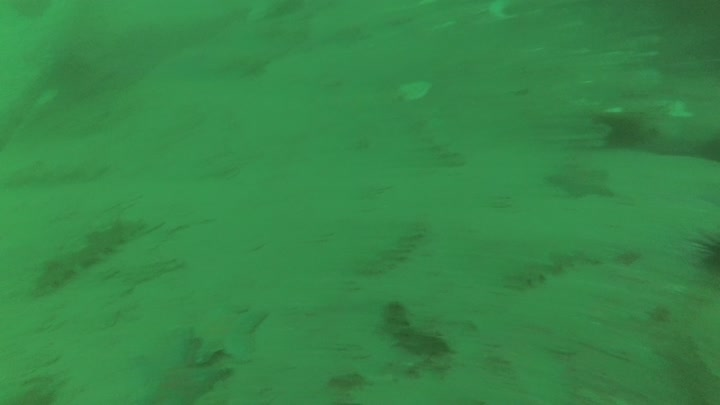echinus: (587, 112, 645, 155), (685, 226, 720, 282)
holothurian: (33, 214, 149, 300), (381, 298, 453, 361), (362, 224, 429, 274)
starfish: (187, 303, 271, 368), (139, 357, 236, 405), (544, 160, 618, 201)
